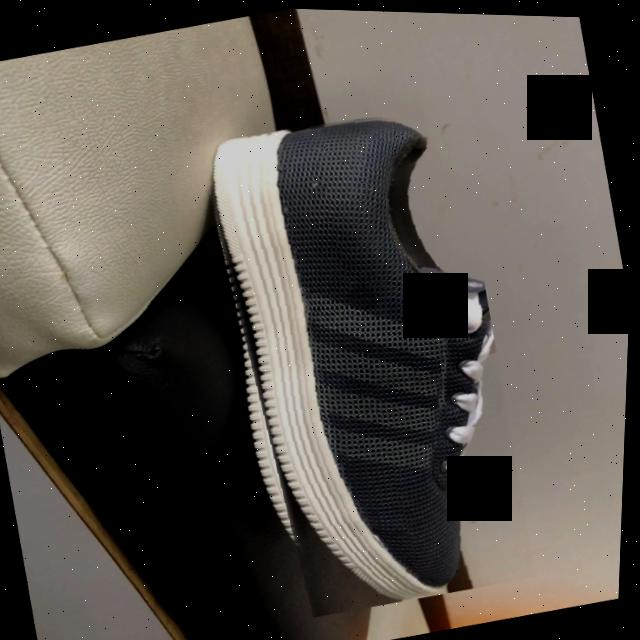shoe: (213, 118, 498, 601)
